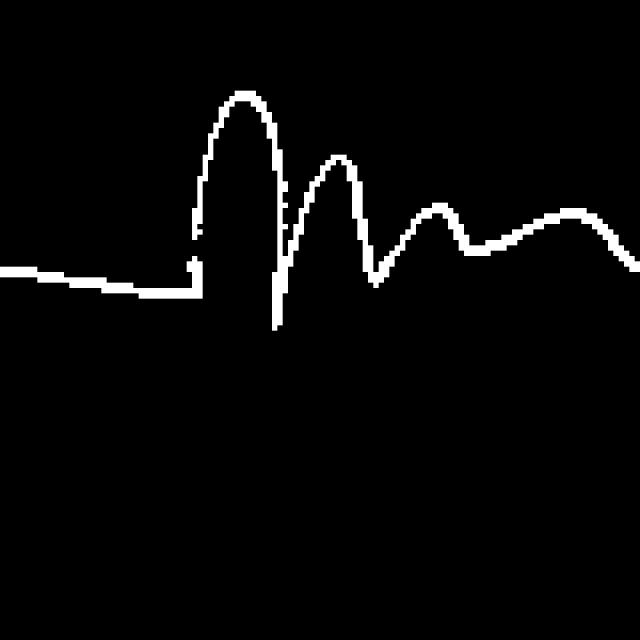inductor: (159, 71, 626, 344)
